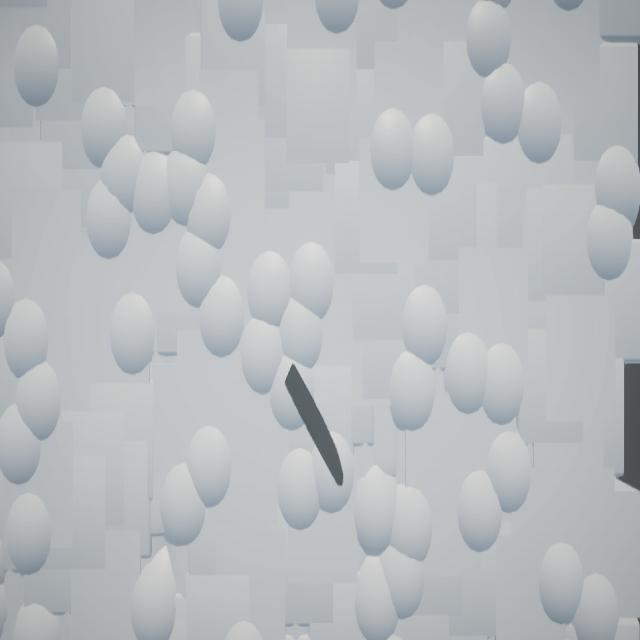top_knife: (286, 365, 345, 488)
